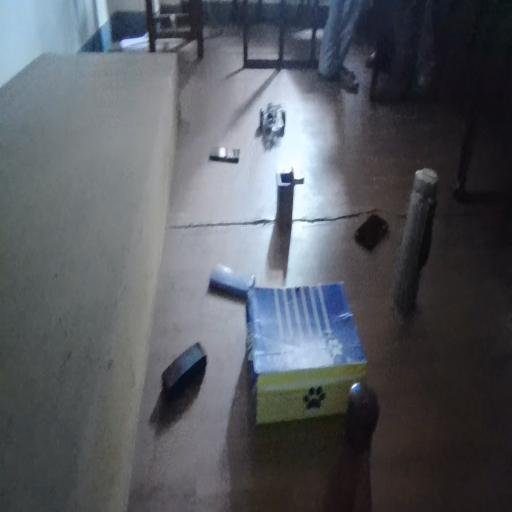car: (254, 92, 301, 154)
